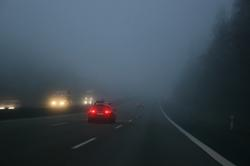car: (87, 101, 117, 124), (46, 89, 75, 111), (1, 96, 25, 116), (79, 91, 101, 107)
